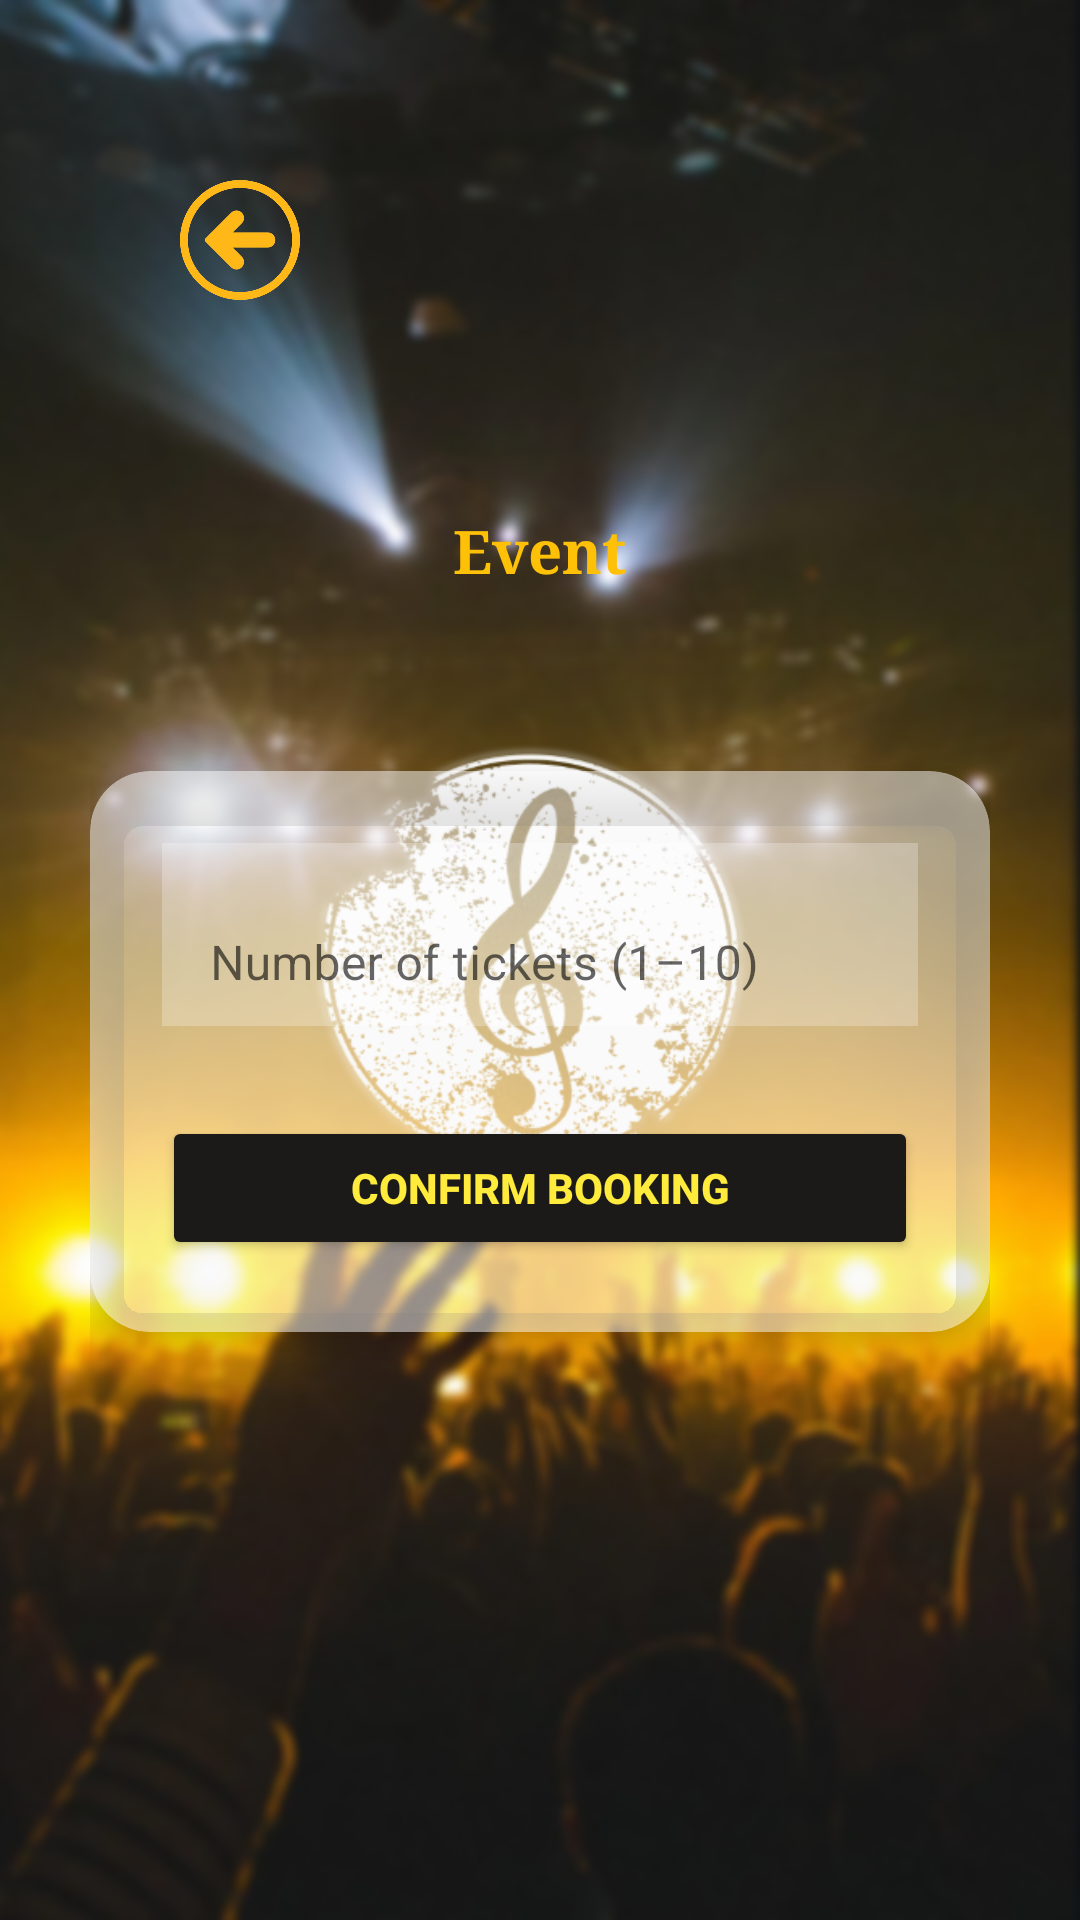

Named icons in this screenshot (1080 × 1920) and their bounding boxes, (x1, y1, x2, y2):
Back: (180, 180, 300, 300)
